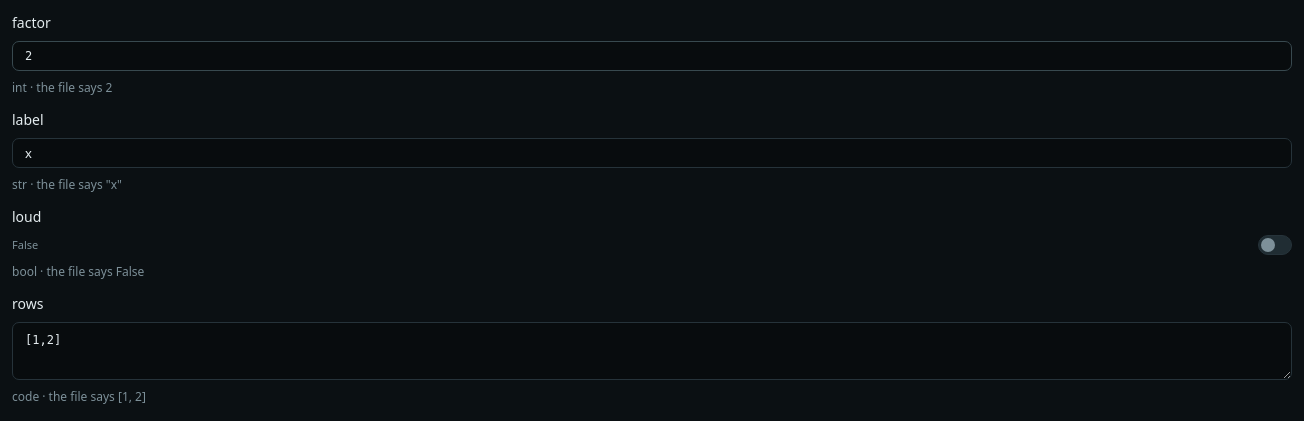
a field per parameter, typed from its default › hands back the value and the error on every stroke
Replace the text in the field labelled "factor" with "9" at (652, 56), box [12,41,1292,71]
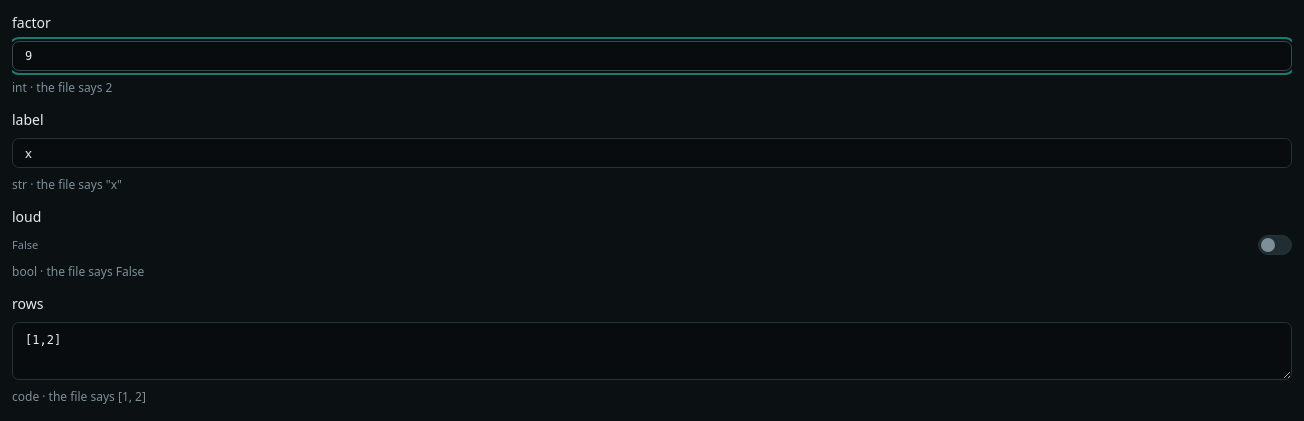
Type "x" into the field labelled "factor" at (652, 56), box [12,41,1292,71]
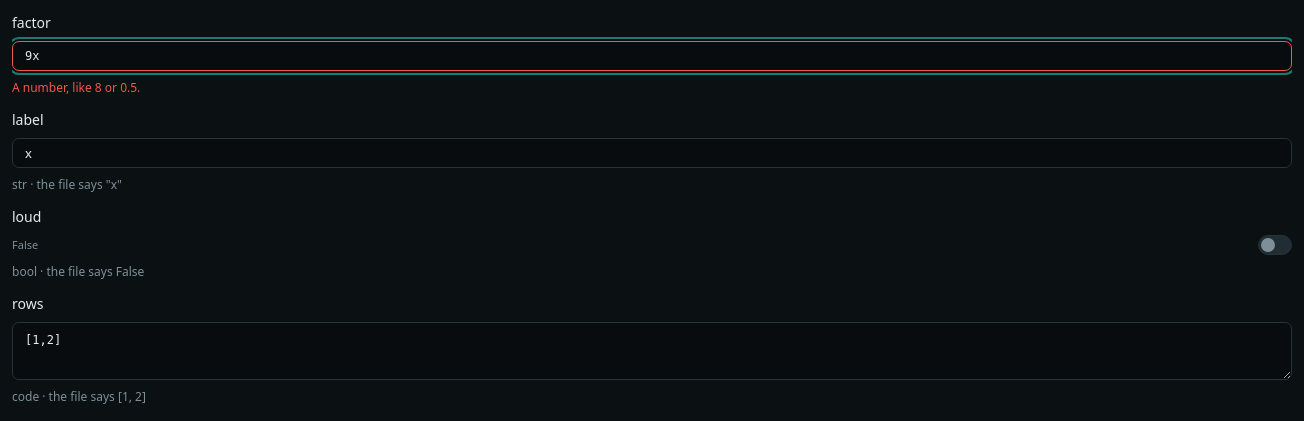
expect the text "A number, like 8 or 0.5." is shown: met, box [12,79,140,96]
